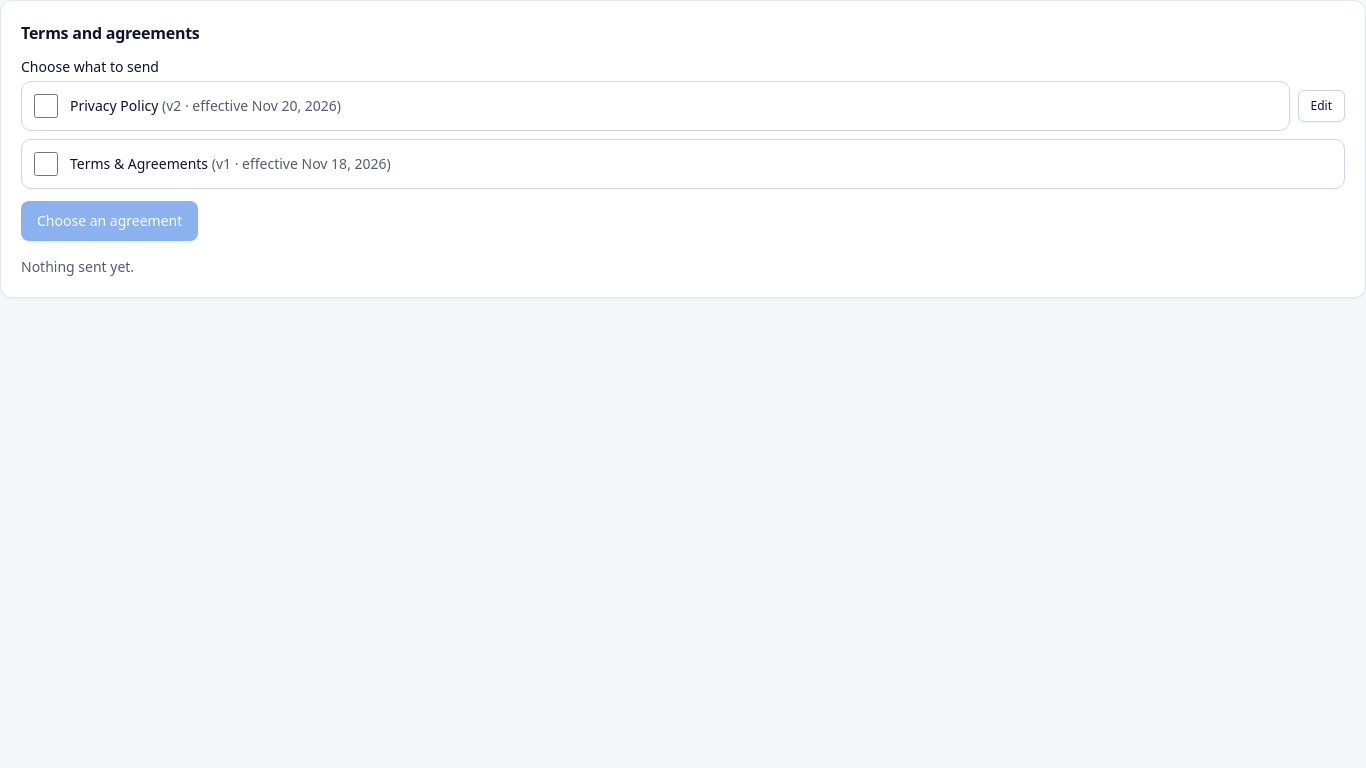
Test: editing an agreement before sending it › opens the text and effective date, and saves both to the agreement
The image size is (1366, 768).
Click the button with aria-label "Edit Privacy Policy version 2": (1321,106) [1298, 90, 1345, 122]
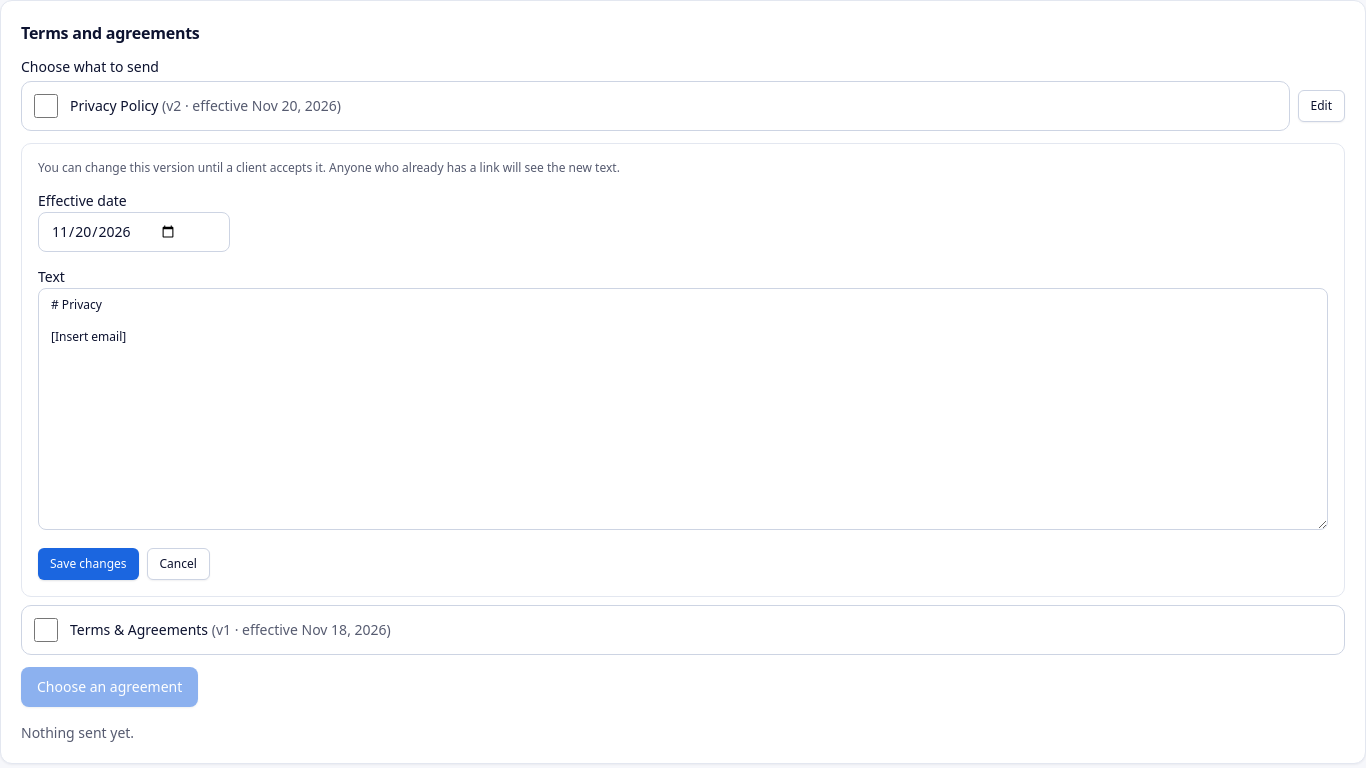
Replace the text in the text box labelled "Text" with "Final text": (683,409) [38, 288, 1328, 530]
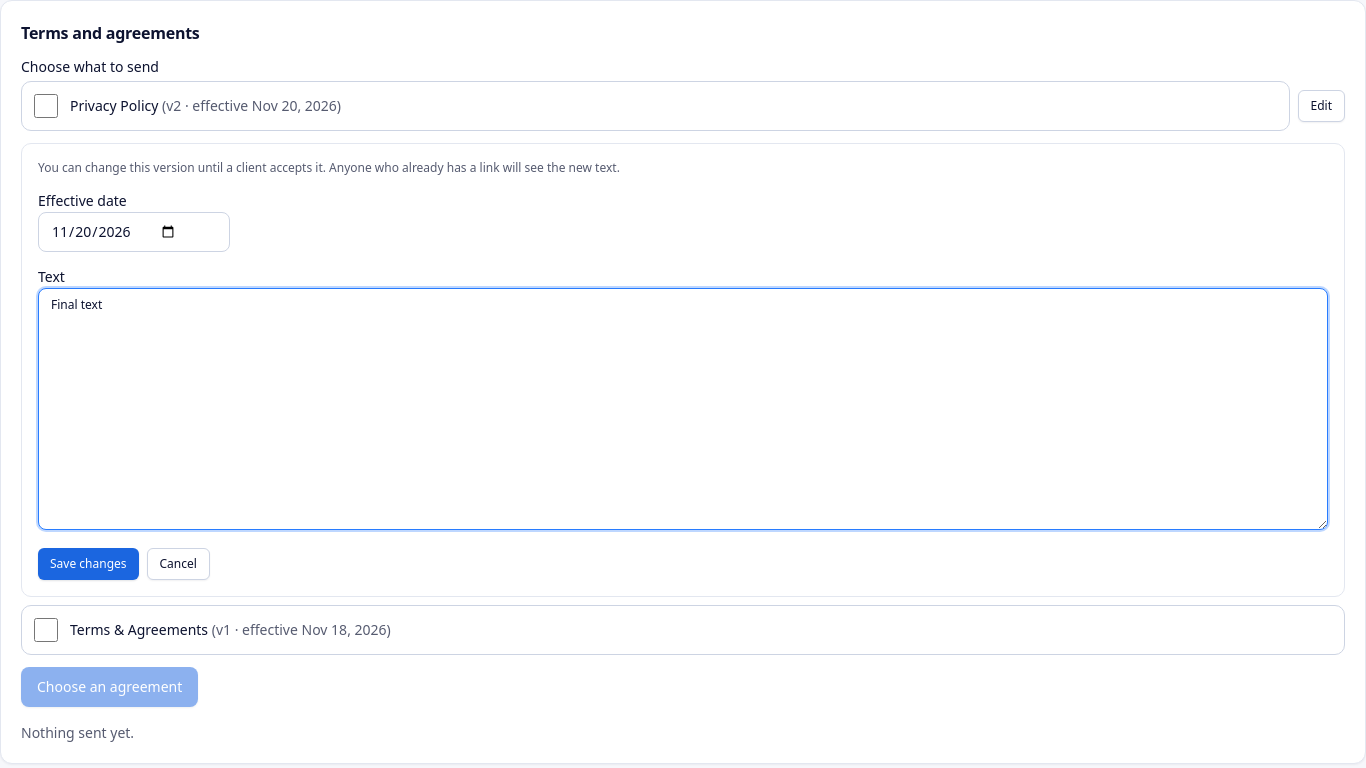
Click the button "Save changes": (88,564) [38, 548, 138, 580]
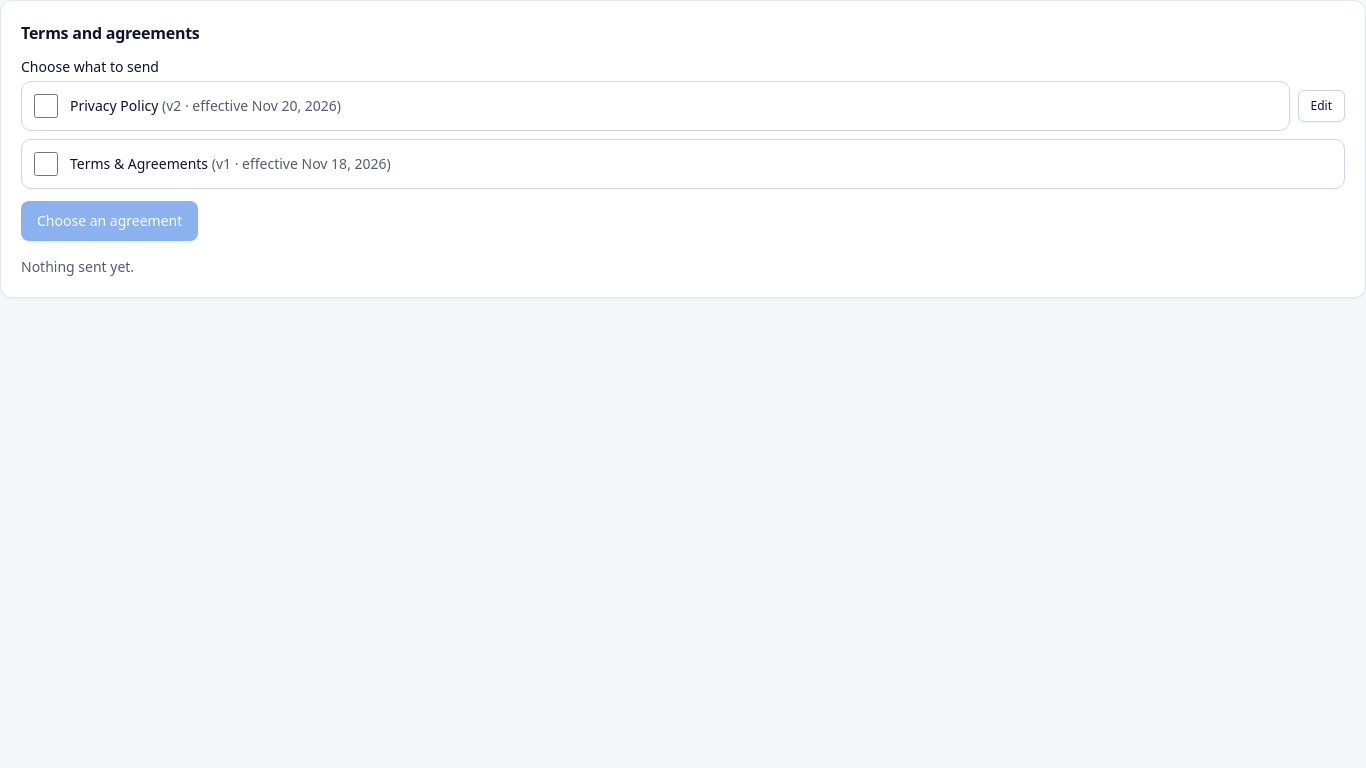
Expected: the text labelled "Text" is gone
